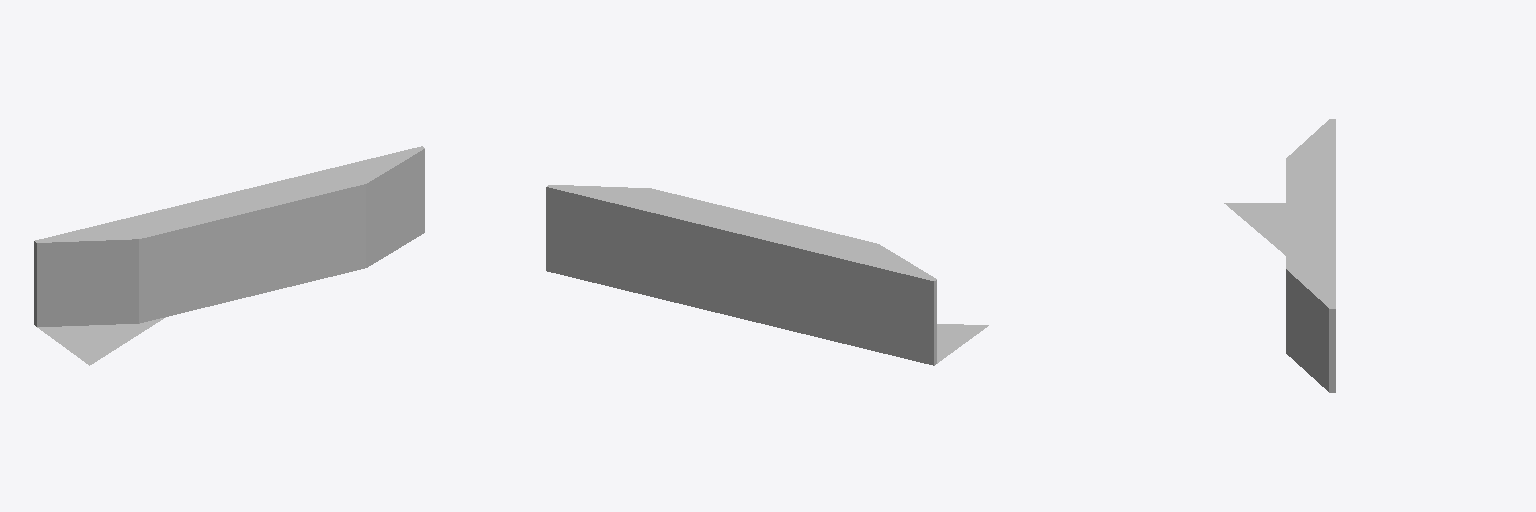
The model's file is translatedYunnyWall7.obj.
The picture shows the model from 3 angles: view 1: azimuth 30°, elevation 25°; view 2: azimuth 150°, elevation 25°; view 3: azimuth 270°, elevation 25°; orthographic projection.
Parts seen in each view (by area): view 1: object_1; view 2: object_1; view 3: object_1.
Boxes of the visible parts, x1=… form: object_1: x1=34, y1=146, x2=424, y2=365; object_1: x1=546, y1=185, x2=988, y2=365; object_1: x1=1224, y1=119, x2=1335, y2=392.
Size of the model in its own units: 11.86 by 2.46 by 2.94.